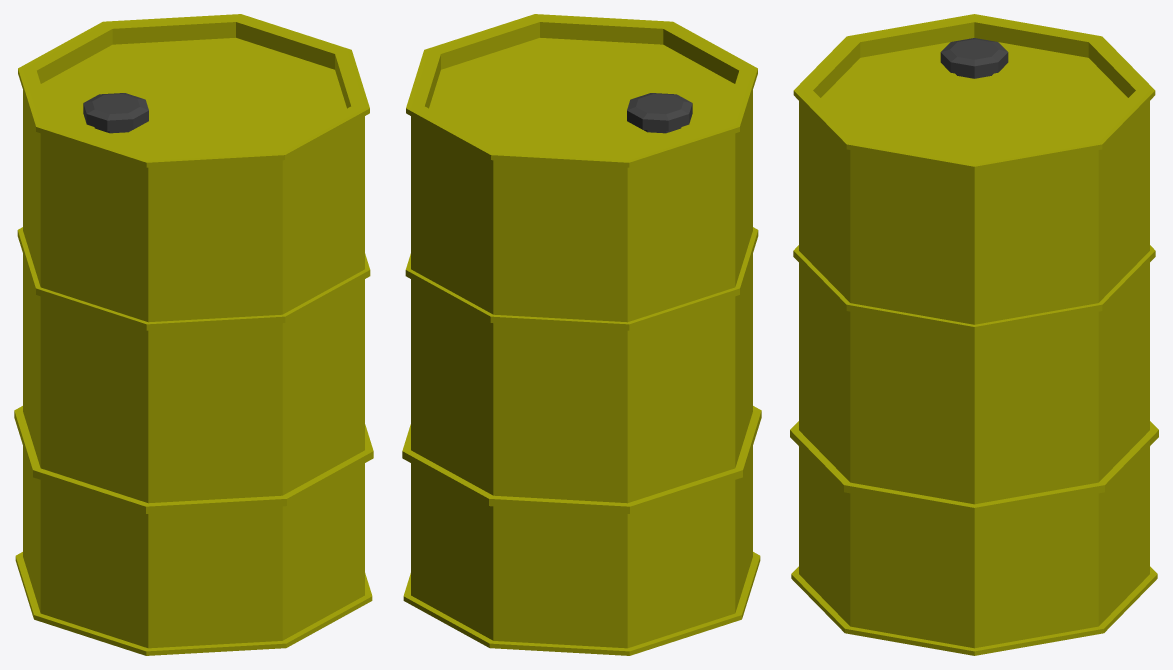
Rendered from Barrel.fbx.
The picture shows the model from 3 angles, left to right: view 1: azimuth 30°, elevation 25°; view 2: azimuth 150°, elevation 25°; view 3: azimuth 270°, elevation 25°; orthographic projection.
Visible parts, largest first — view 1: pCylinder1, pCylinder2; view 2: pCylinder1, pCylinder2; view 3: pCylinder1, pCylinder2.
Boxes of the visible parts, x1,y1,x2,y2 form: pCylinder1: [14, 14, 373, 655]; pCylinder2: [83, 93, 148, 133]; pCylinder1: [402, 14, 761, 655]; pCylinder2: [627, 93, 692, 133]; pCylinder1: [790, 14, 1158, 655]; pCylinder2: [940, 38, 1008, 78].
Size of the model in its own units: 4.91 by 7.22 by 4.91.
